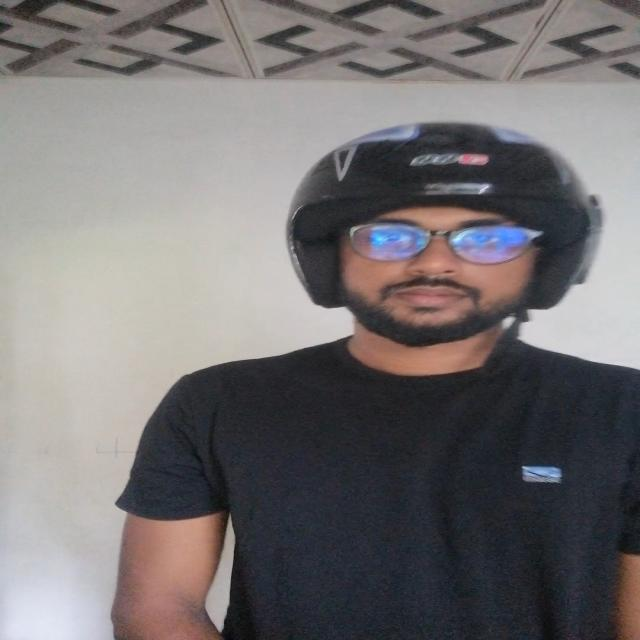Helmet_Wearer: (265, 112, 621, 428)
Person: (123, 124, 640, 640)
